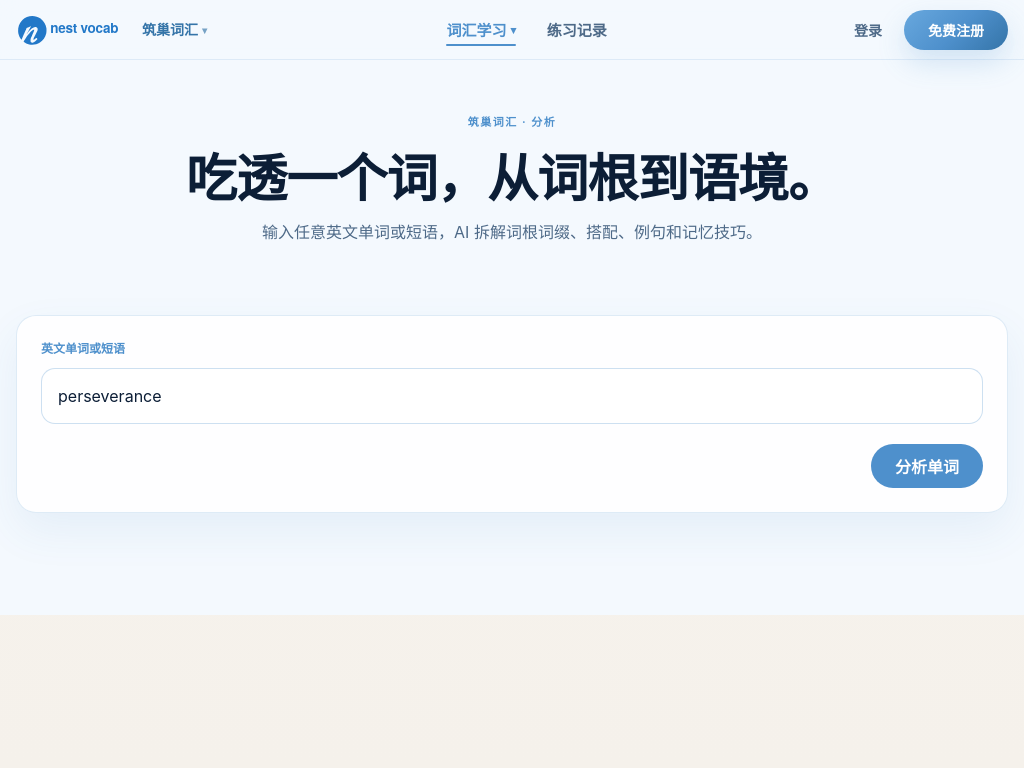
it: VocabAnalyzerPage › analyzes a word and renders the breakdown
Click the button "分析单词" at (927, 466), box [871,444,983,488]
(page scrolled)
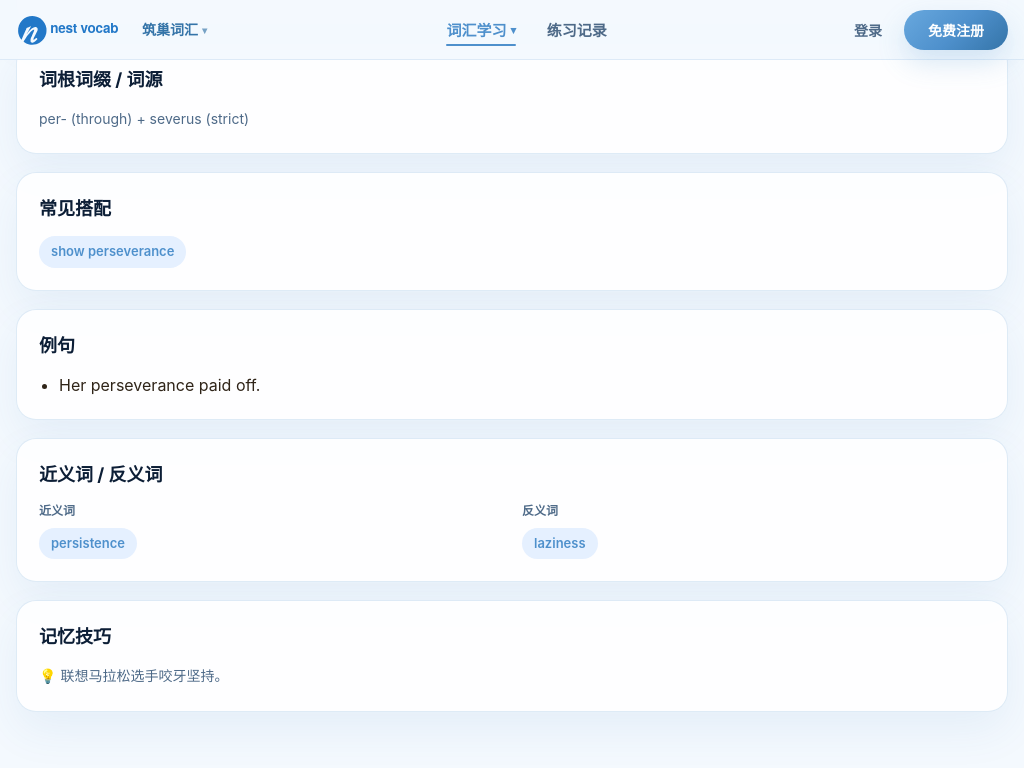
Now the text "per- (through) + severus (strict)" is shown, box [39,110,249,127]
Now the list item "Her perseverance paid off." is shown, box [59,375,260,395]
